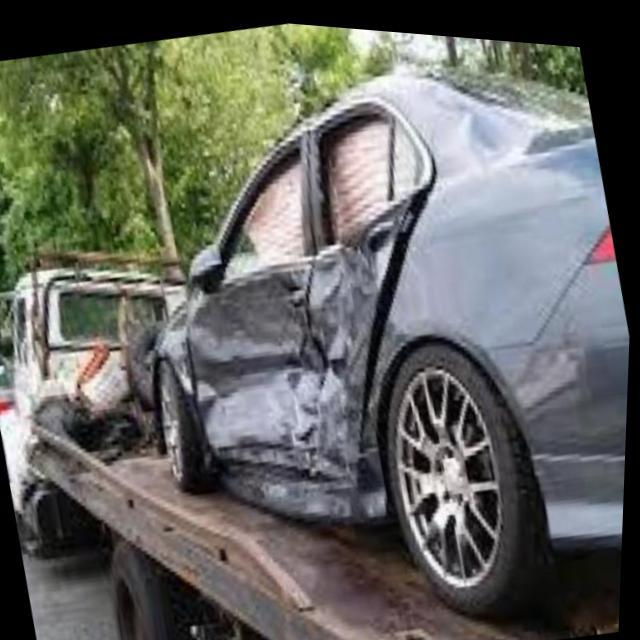dent: (184, 68, 595, 514)
